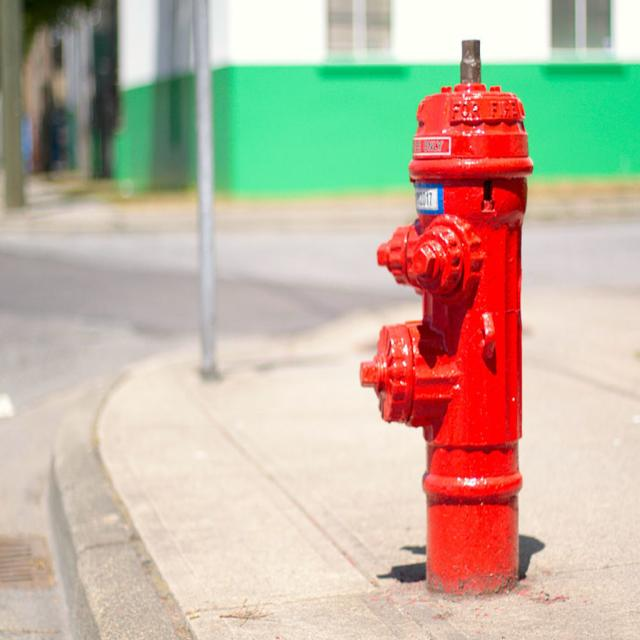fire_hydrant: (358, 37, 532, 599)
